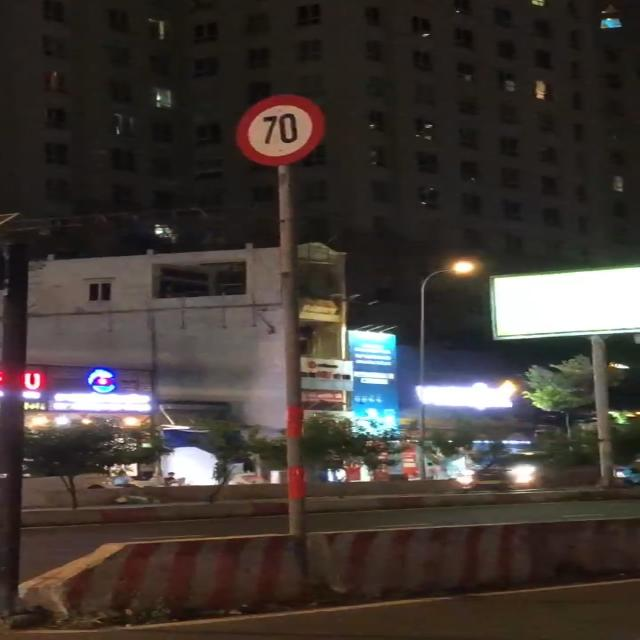Bien bao toc do toi da cho phep: (232, 87, 340, 174)
